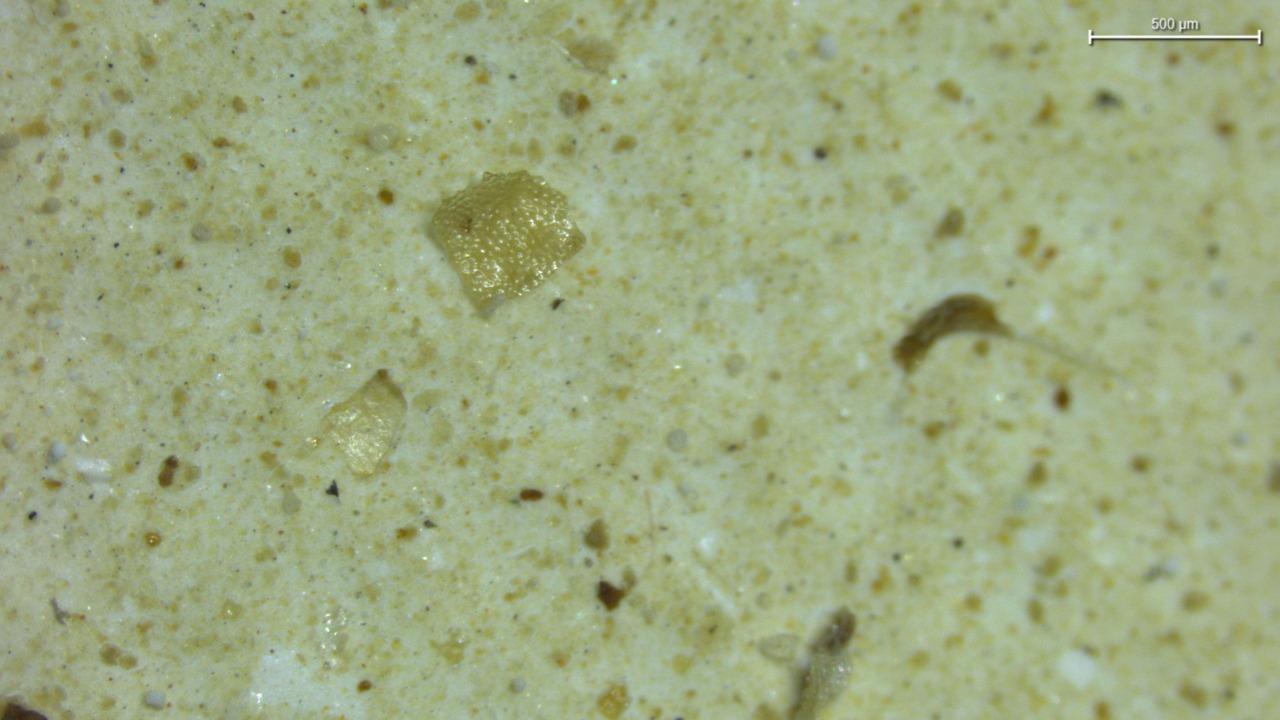microplastic_fragment: (432, 171, 584, 309), (321, 370, 406, 474)
